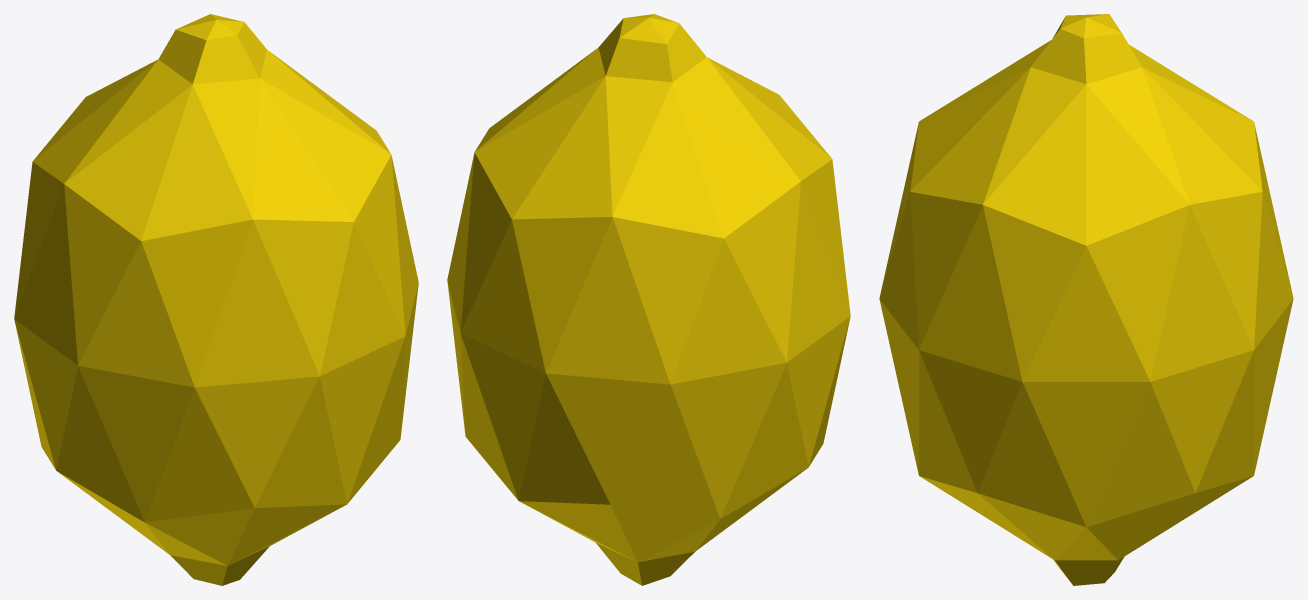
File: Lemon_01.fbx
3 renders of one model, left to right at view 1: azimuth 30°, elevation 25°; view 2: azimuth 150°, elevation 25°; view 3: azimuth 270°, elevation 25°, orthographic.
Parts seen in each view (by area): view 1: Lemon_01; view 2: Lemon_01; view 3: Lemon_01.
Boxes of the visible parts, x1,y1,x2,y2 form: Lemon_01: (14, 14, 418, 585); Lemon_01: (447, 14, 850, 585); Lemon_01: (879, 14, 1293, 585).
Size of the model in its own units: 7.32 by 11.58 by 7.7.
